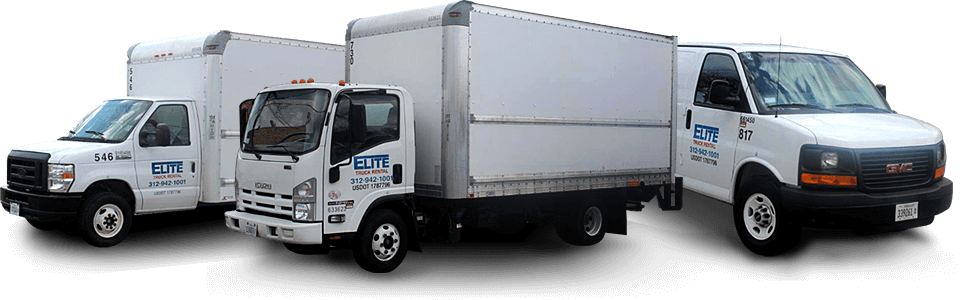Truck: (236, 19, 650, 260), (3, 33, 230, 251)
